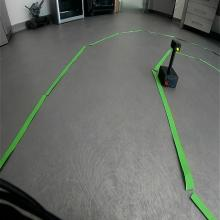green: (170, 39, 182, 52)
